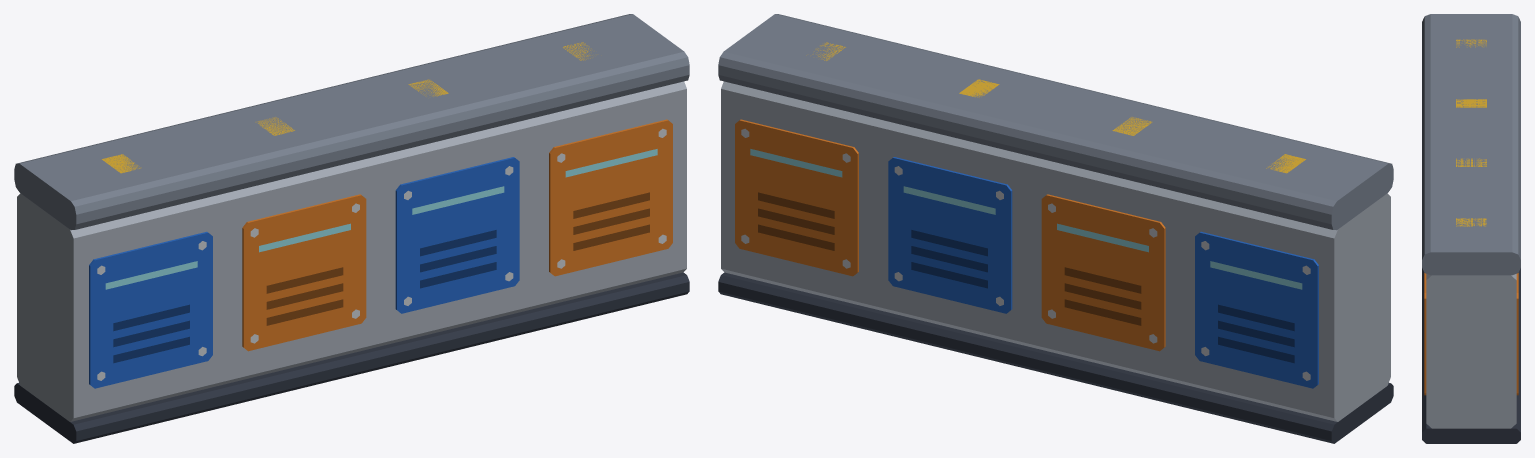
File: space-border.glb
The picture shows the model from 3 angles, left to right: view 1: azimuth 30°, elevation 25°; view 2: azimuth 150°, elevation 25°; view 3: azimuth 270°, elevation 25°; orthographic projection. The views are drawn at different scales.
Visible parts, largest first — view 1: space-border; view 2: space-border; view 3: space-border.
Boxes of the visible parts, x1,y1,x2,y2 form: space-border: [14, 14, 689, 443]; space-border: [718, 14, 1393, 443]; space-border: [1422, 14, 1520, 443].
Size of the model in its own units: 4 by 1.5 by 0.7.
